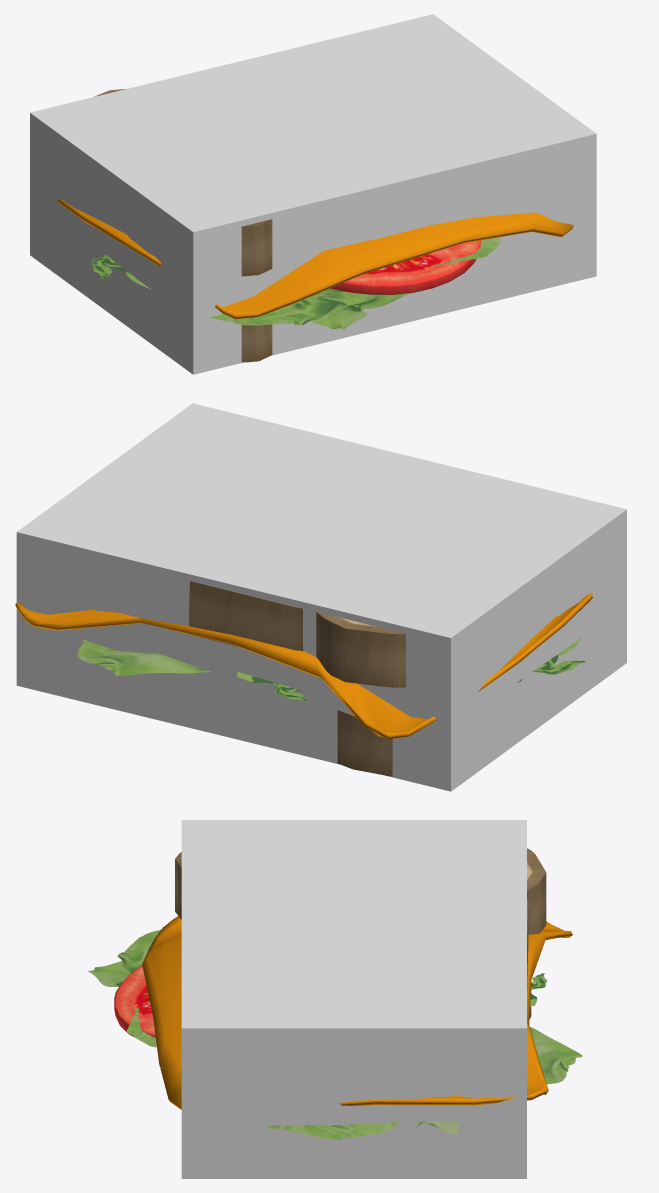
Rendered from sandwich.fbx.
The picture shows the model from 3 angles, top to bottom: view 1: azimuth 30°, elevation 25°; view 2: azimuth 150°, elevation 25°; view 3: azimuth 270°, elevation 25°; orthographic projection. The views are drawn at different scales.
Parts seen in each view (by area): view 1: sandwich.cols, sandwich.lod0; view 2: sandwich.cols, sandwich.lod0; view 3: sandwich.cols, sandwich.lod0.
Part boxes in pixels (left/top/right/bottom): sandwich.cols: left=30, top=14, right=596, bottom=374; sandwich.lod0: left=55, top=89, right=573, bottom=362; sandwich.cols: left=16, top=403, right=626, bottom=791; sandwich.lod0: left=15, top=581, right=613, bottom=776; sandwich.cols: left=181, top=820, right=526, bottom=1178; sandwich.lod0: left=87, top=848, right=582, bottom=1139.
Size of what is drawn, in the model's own units: 420 by 97.6 by 370.
